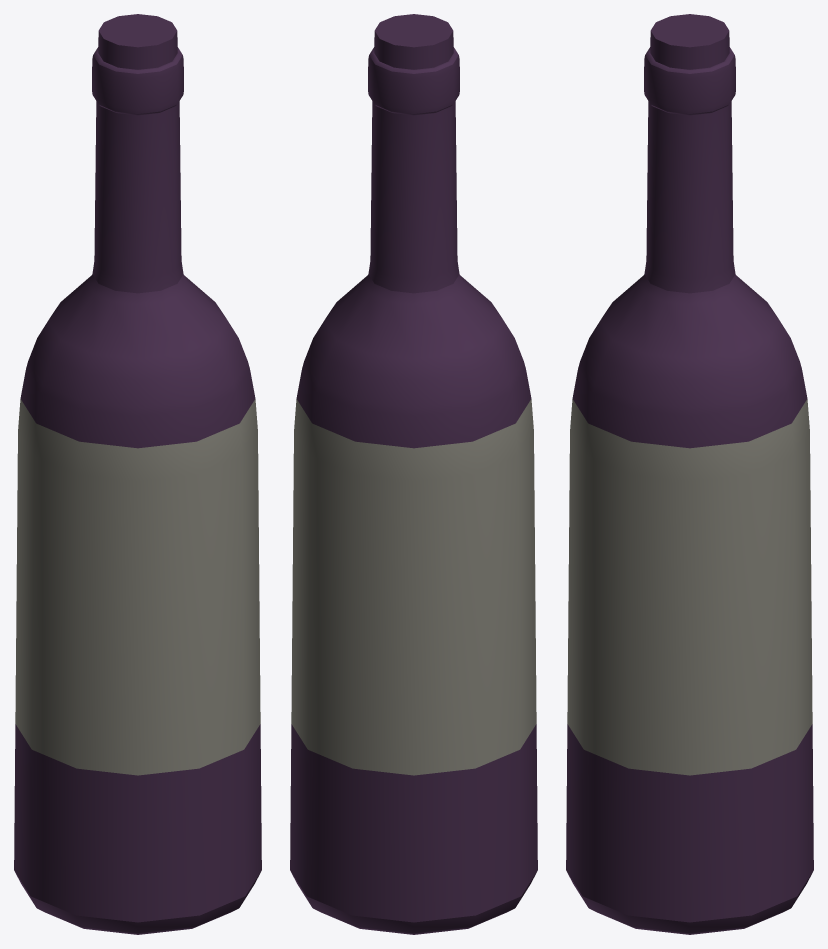
File: wine_bottle.fbx
3 renders of one model, left to right at view 1: azimuth 30°, elevation 25°; view 2: azimuth 150°, elevation 25°; view 3: azimuth 270°, elevation 25°, orthographic.
Parts seen in each view (by area): view 1: wine_bottle; view 2: wine_bottle; view 3: wine_bottle.
Part boxes in pixels (bbox=[...]): wine_bottle: bbox=[14, 14, 261, 934]; wine_bottle: bbox=[290, 14, 537, 934]; wine_bottle: bbox=[566, 14, 813, 934].
Size of the model in its own units: 0.0784 by 0.0784 by 0.2995.
